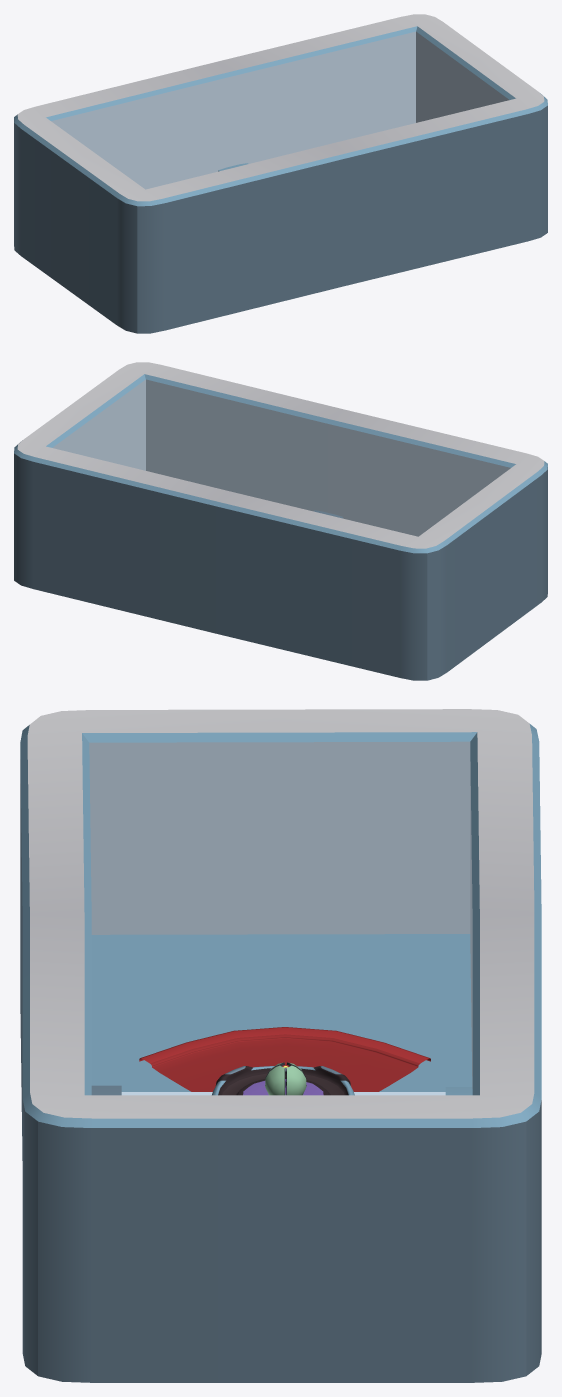
Rendered from Scene_2_players.fbx.
3 renders of one model, top to bottom at view 1: azimuth 30°, elevation 25°; view 2: azimuth 150°, elevation 25°; view 3: azimuth 270°, elevation 25°, orthographic. The views are drawn at different scales.
Visible parts, largest first — view 1: mur_stage2; view 2: mur_stage2; view 3: mur_stage2, sol1_stage2, cercle_rouge_stage2, circle_central_stage2, plateau_stage2, Ball.
Boxes of the visible parts, x1,y1,x2,y2 form: mur_stage2: (14,14,547,333); mur_stage2: (14,362,547,680); mur_stage2: (20,709,541,1382); sol1_stage2: (91,934,472,1091); cercle_rouge_stage2: (139,1027,430,1091); circle_central_stage2: (212,1066,354,1095); plateau_stage2: (91,1085,472,1095); Ball: (265,1062,306,1095).
Bounding box in the file's own units: 396 × 116 × 210.
